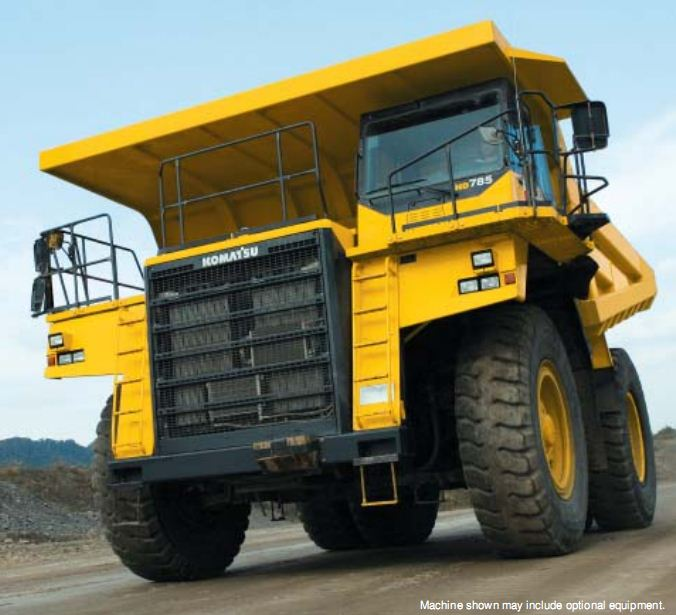truck: (24, 22, 664, 570)
